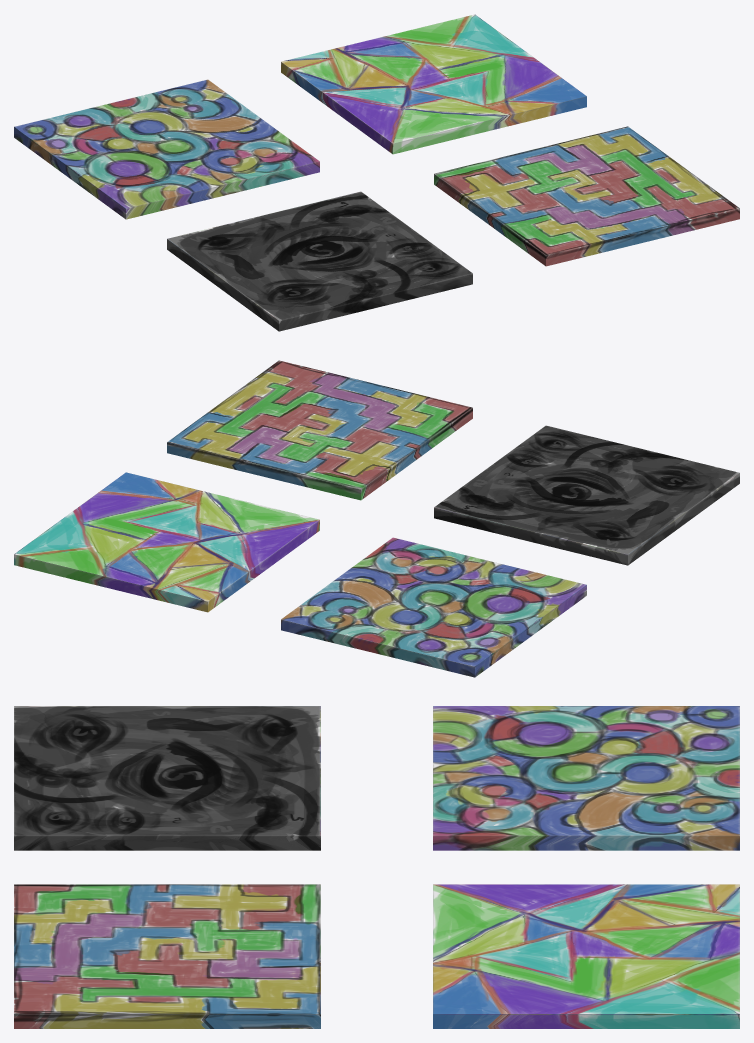
The model's file is paintsclues.fbx.
3 views of the same model, one above another, from view 1: azimuth 30°, elevation 25°; view 2: azimuth 150°, elevation 25°; view 3: azimuth 270°, elevation 25° (orthographic). The views are drawn at different scales.
Visible parts, largest first — view 1: paint3, paint2, paint7, eyePaint; view 2: paint7, eyePaint, paint3, paint2; view 3: paint3, paint7, paint2, eyePaint.
Part boxes in pixels (bbox=[...]): paint3: bbox=[14, 79, 319, 219]; paint2: bbox=[434, 126, 739, 266]; paint7: bbox=[281, 14, 586, 154]; eyePaint: bbox=[167, 191, 472, 331]; paint7: bbox=[14, 472, 319, 612]; eyePaint: bbox=[434, 425, 739, 565]; paint3: bbox=[281, 537, 586, 677]; paint2: bbox=[167, 360, 472, 500]; paint3: bbox=[433, 706, 739, 850]; paint7: bbox=[433, 884, 739, 1028]; paint2: bbox=[14, 884, 320, 1028]; eyePaint: bbox=[14, 706, 320, 850].
Size of the model in its own units: 273 by 6.14 by 272.
